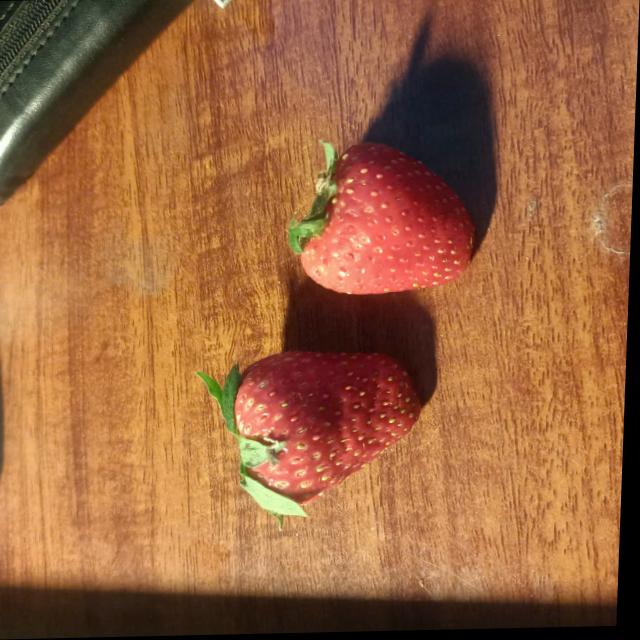DauTay: (222, 345, 423, 517), (291, 137, 491, 306)
